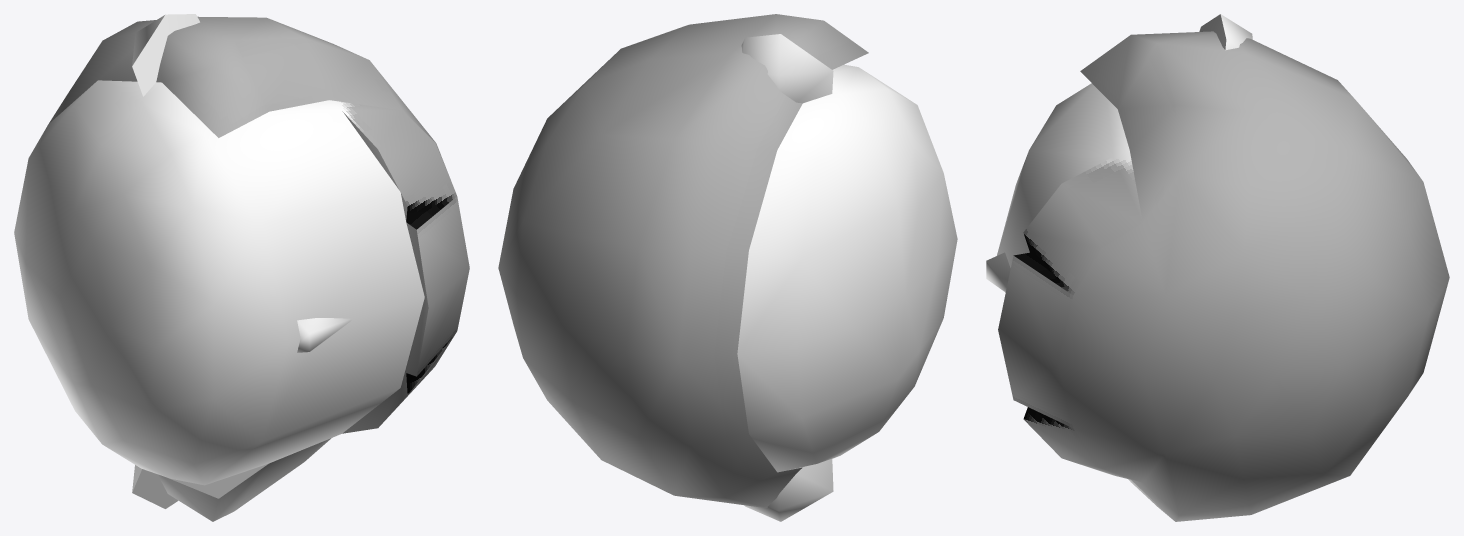
Rendered from girl06a.dae.
3 views of the same model, side by side, from view 1: azimuth 30°, elevation 25°; view 2: azimuth 150°, elevation 25°; view 3: azimuth 270°, elevation 25° (orthographic).
Parts seen in each view (by area): view 1: girl06a; view 2: girl06a; view 3: girl06a.
Part boxes in pixels (x1=…): girl06a: x1=14, y1=14, x2=469, y2=521; girl06a: x1=498, y1=14, x2=957, y2=521; girl06a: x1=986, y1=14, x2=1449, y2=521.
Bounding box in the file's own units: 21.02 × 26.71 × 23.02.
3 materials, 1 textured.
